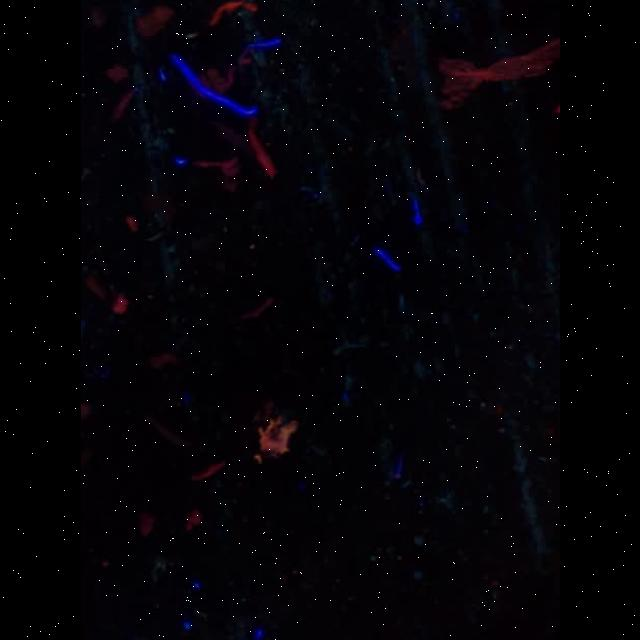Fragment: (209, 2, 257, 26)
